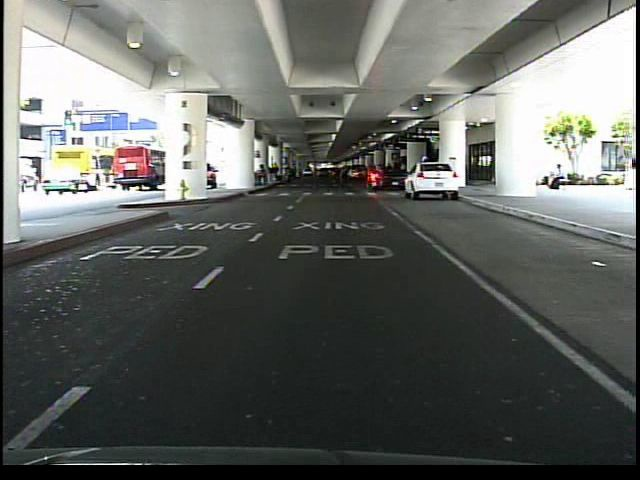person: (541, 157, 569, 194), (417, 153, 435, 198)
